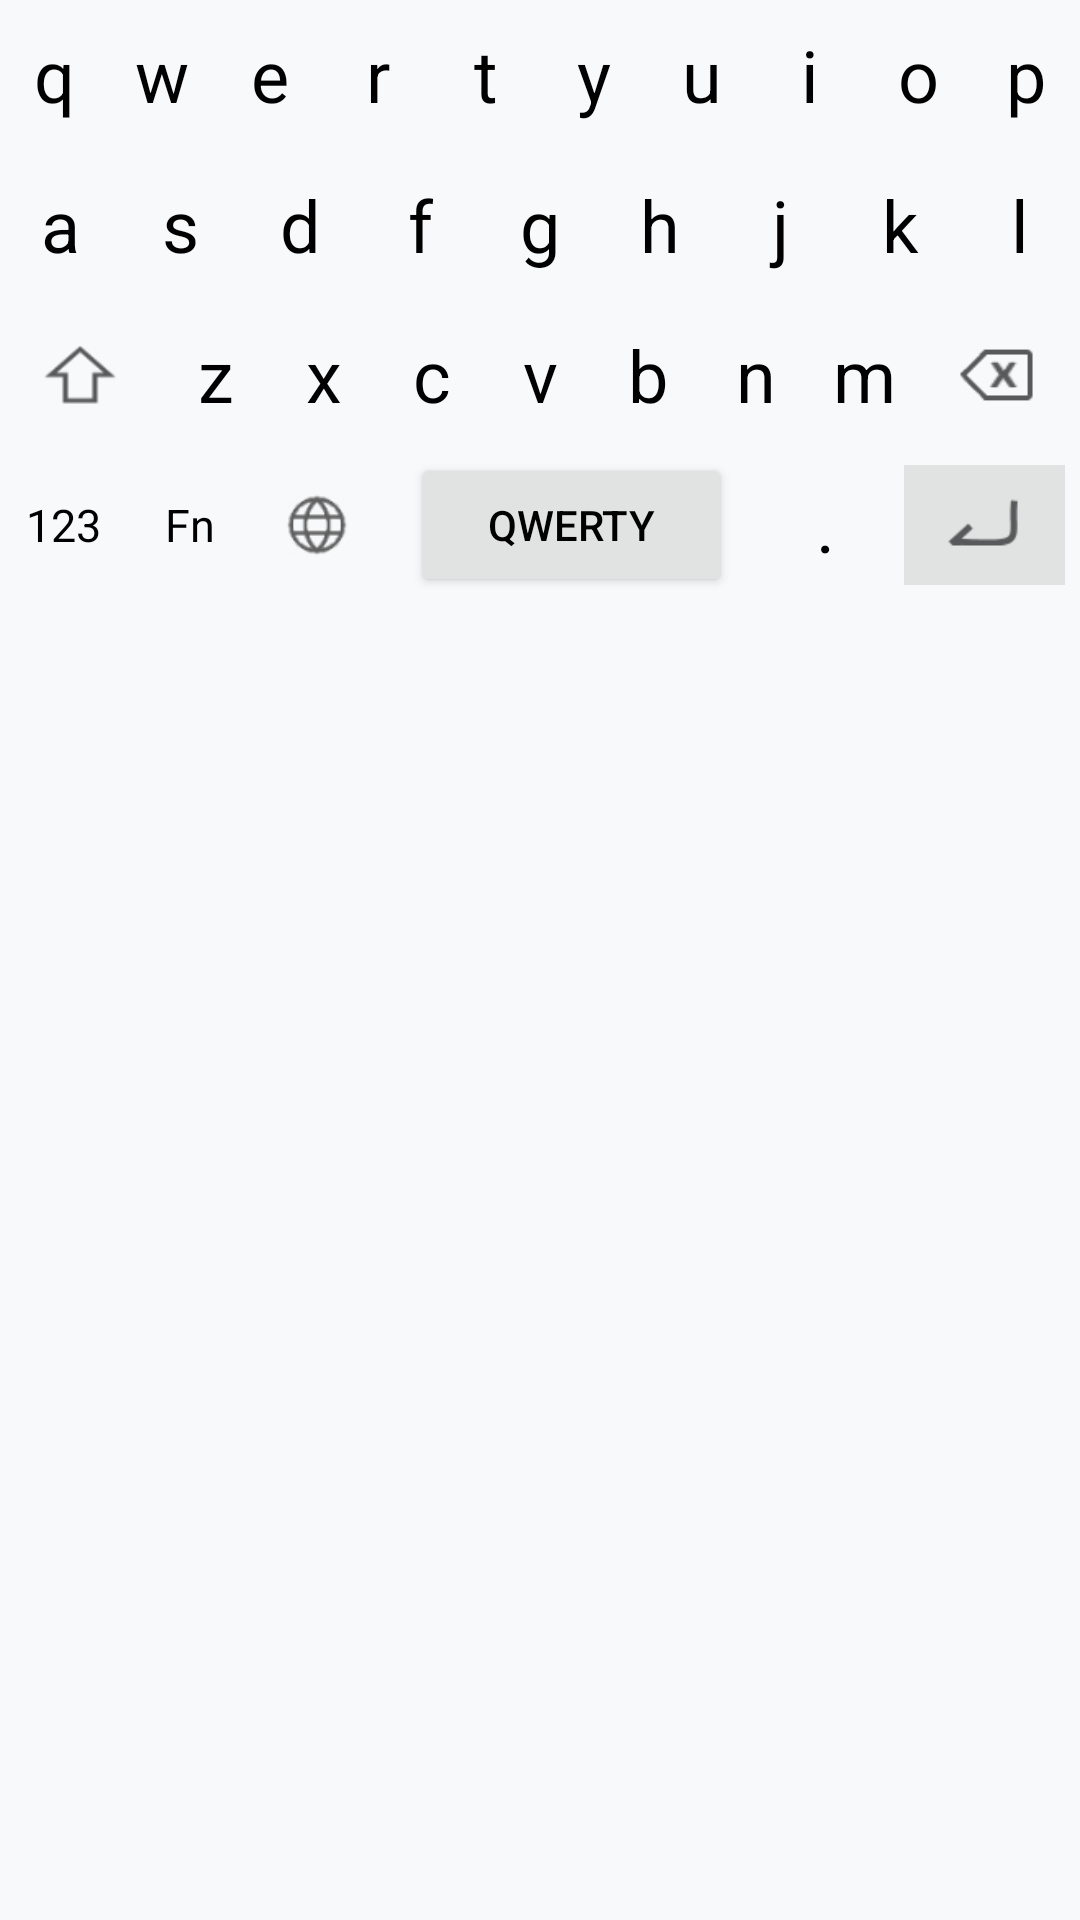

Icon click points for this 1080 × 1920 phone screenshot, format point (x, y):
backspace key: point (996, 375)
enter key: point (983, 523)
lang key: point (317, 525)
shift key: point (80, 375)
